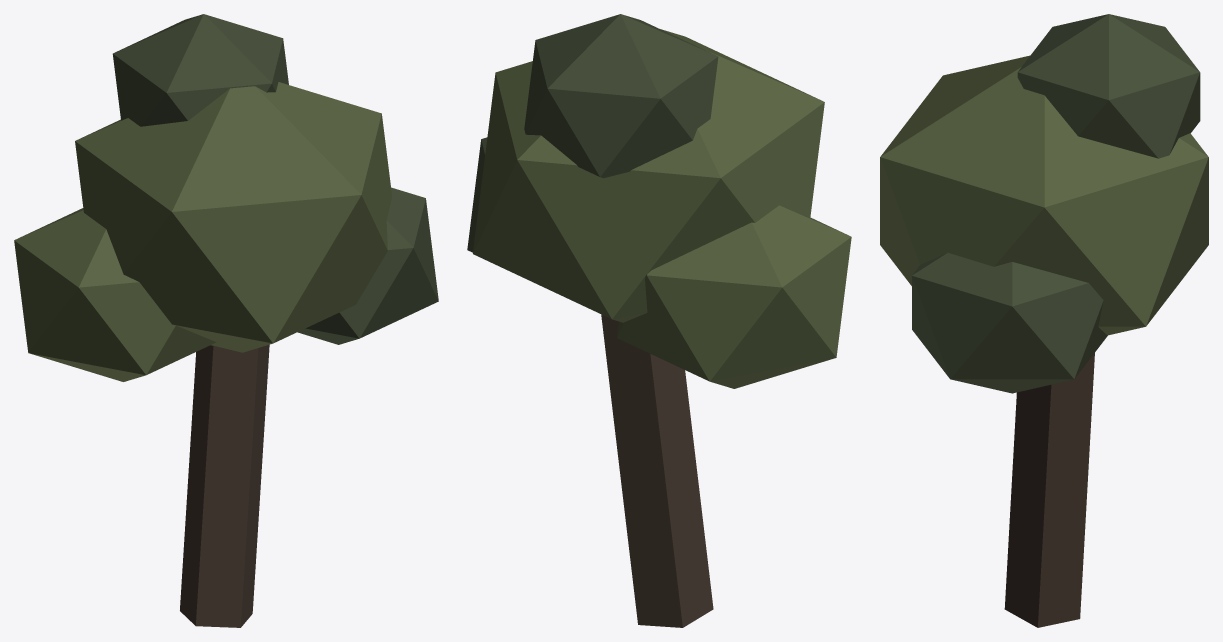
File: tree_round.glb
The picture shows the model from 3 angles, left to right: view 1: azimuth 30°, elevation 25°; view 2: azimuth 150°, elevation 25°; view 3: azimuth 270°, elevation 25°; orthographic projection. The views are drawn at different scales.
Parts seen in each view (by area): view 1: leaf clump, crooked trunk, leaf clump.001, leaf clump.003, leaf clump.002; view 2: leaf clump, leaf clump.001, leaf clump.003, crooked trunk, leaf clump.002; view 3: leaf clump, leaf clump.002, leaf clump.003, crooked trunk.
Boxes of the visible parts, left/top/right/bottom form: leaf clump: left=75, top=82, right=392, bottom=352; crooked trunk: left=180, top=344, right=269, bottom=627; leaf clump.001: left=14, top=208, right=216, bottom=381; leaf clump.003: left=112, top=14, right=288, bottom=126; leaf clump.002: left=297, top=187, right=438, bottom=344; leaf clump: left=473, top=29, right=824, bottom=322; leaf clump.001: left=617, top=205, right=851, bottom=388; leaf clump.003: left=524, top=14, right=718, bottom=178; crooked trunk: left=601, top=314, right=713, bottom=627; leaf clump.002: left=467, top=137, right=487, bottom=252; leaf clump: left=880, top=55, right=1208, bottom=335; leaf clump.002: left=912, top=253, right=1107, bottom=393; leaf clump.003: left=1017, top=14, right=1200, bottom=158; crooked trunk: left=1004, top=353, right=1094, bottom=627.
Size of the model in its own units: 0.8214 by 1.25 by 0.6125.
